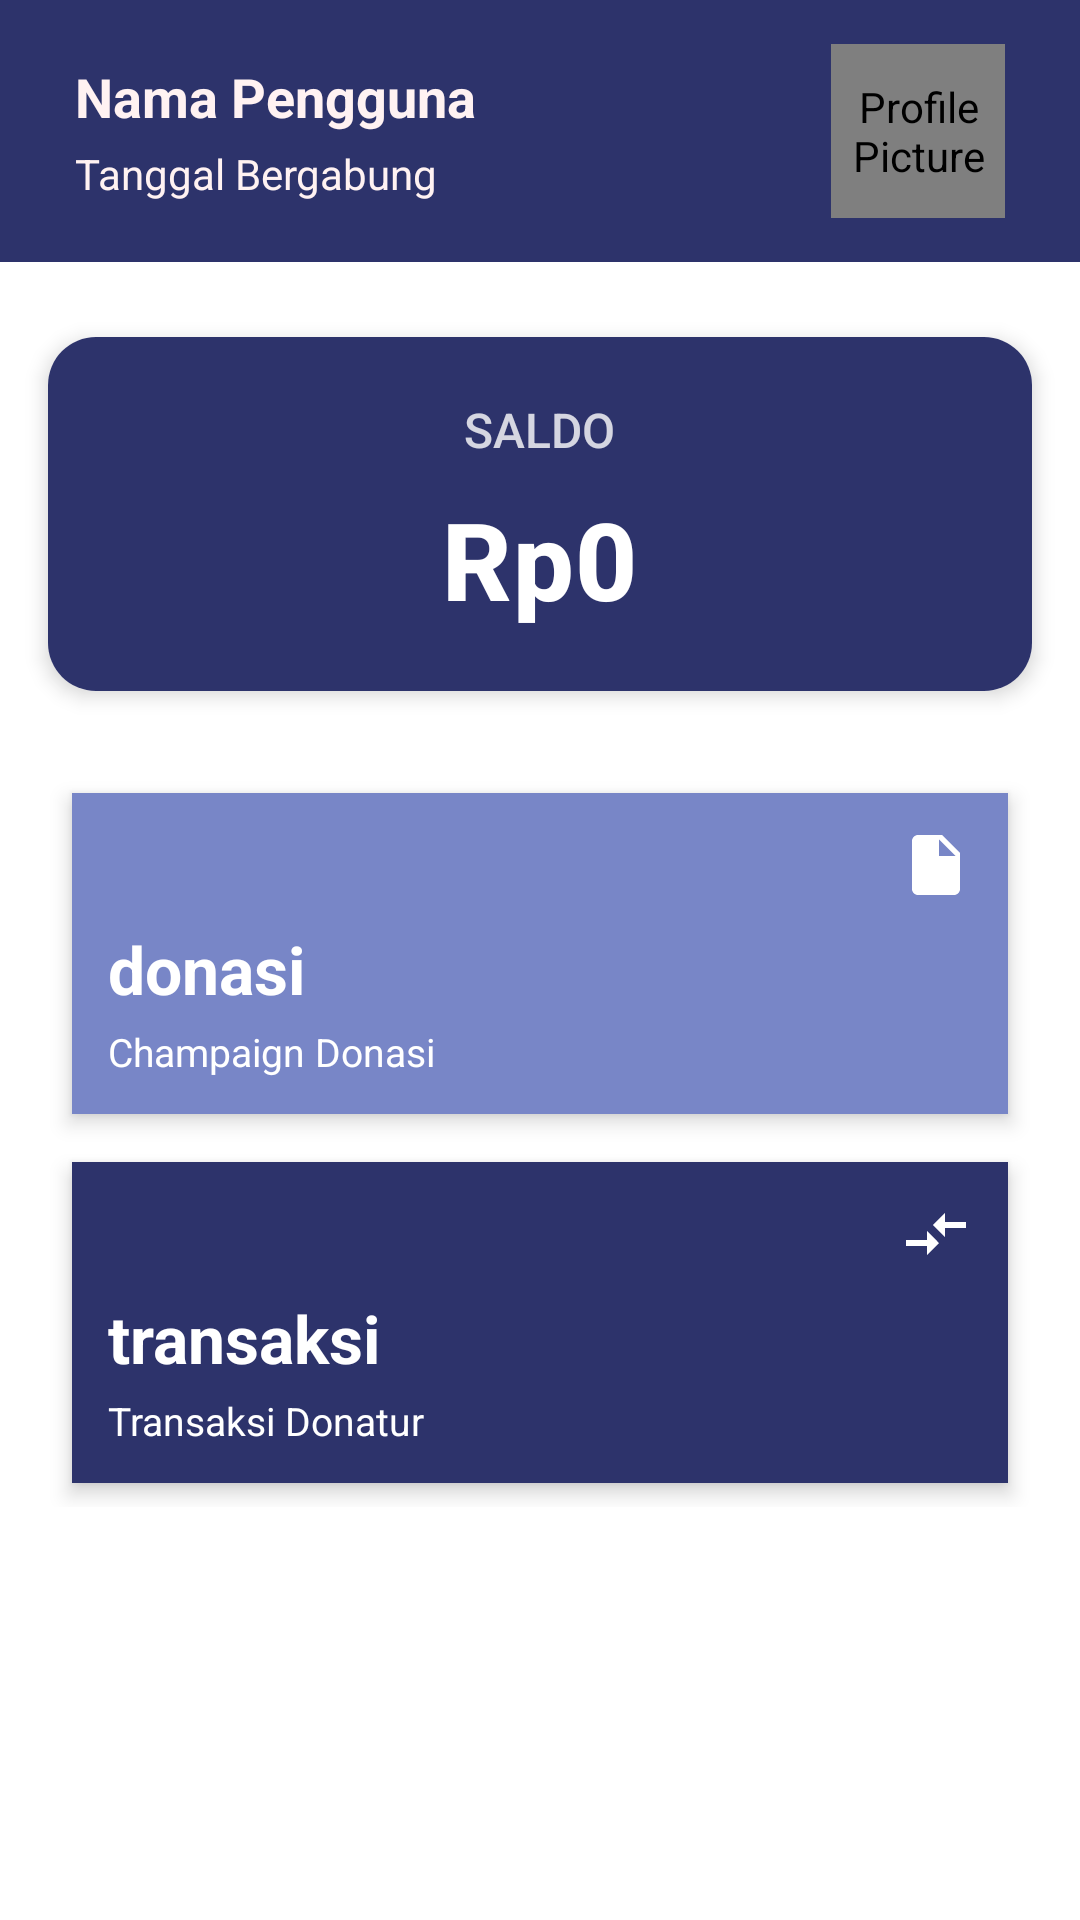

Where to tap for icons on this 1080×1920 app screen, as point (x, y):
file: point (936, 865)
transaction: point (936, 1234)
